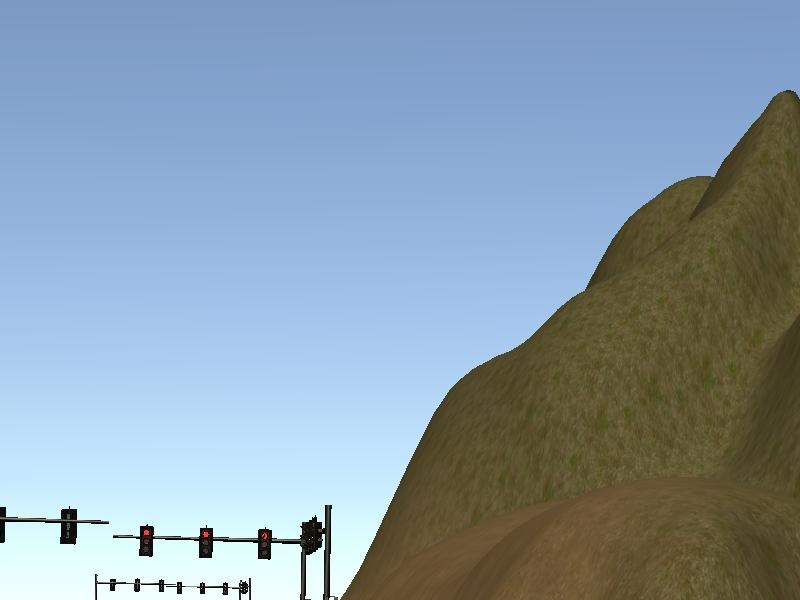traffic_light_red: (129, 525, 292, 559)
